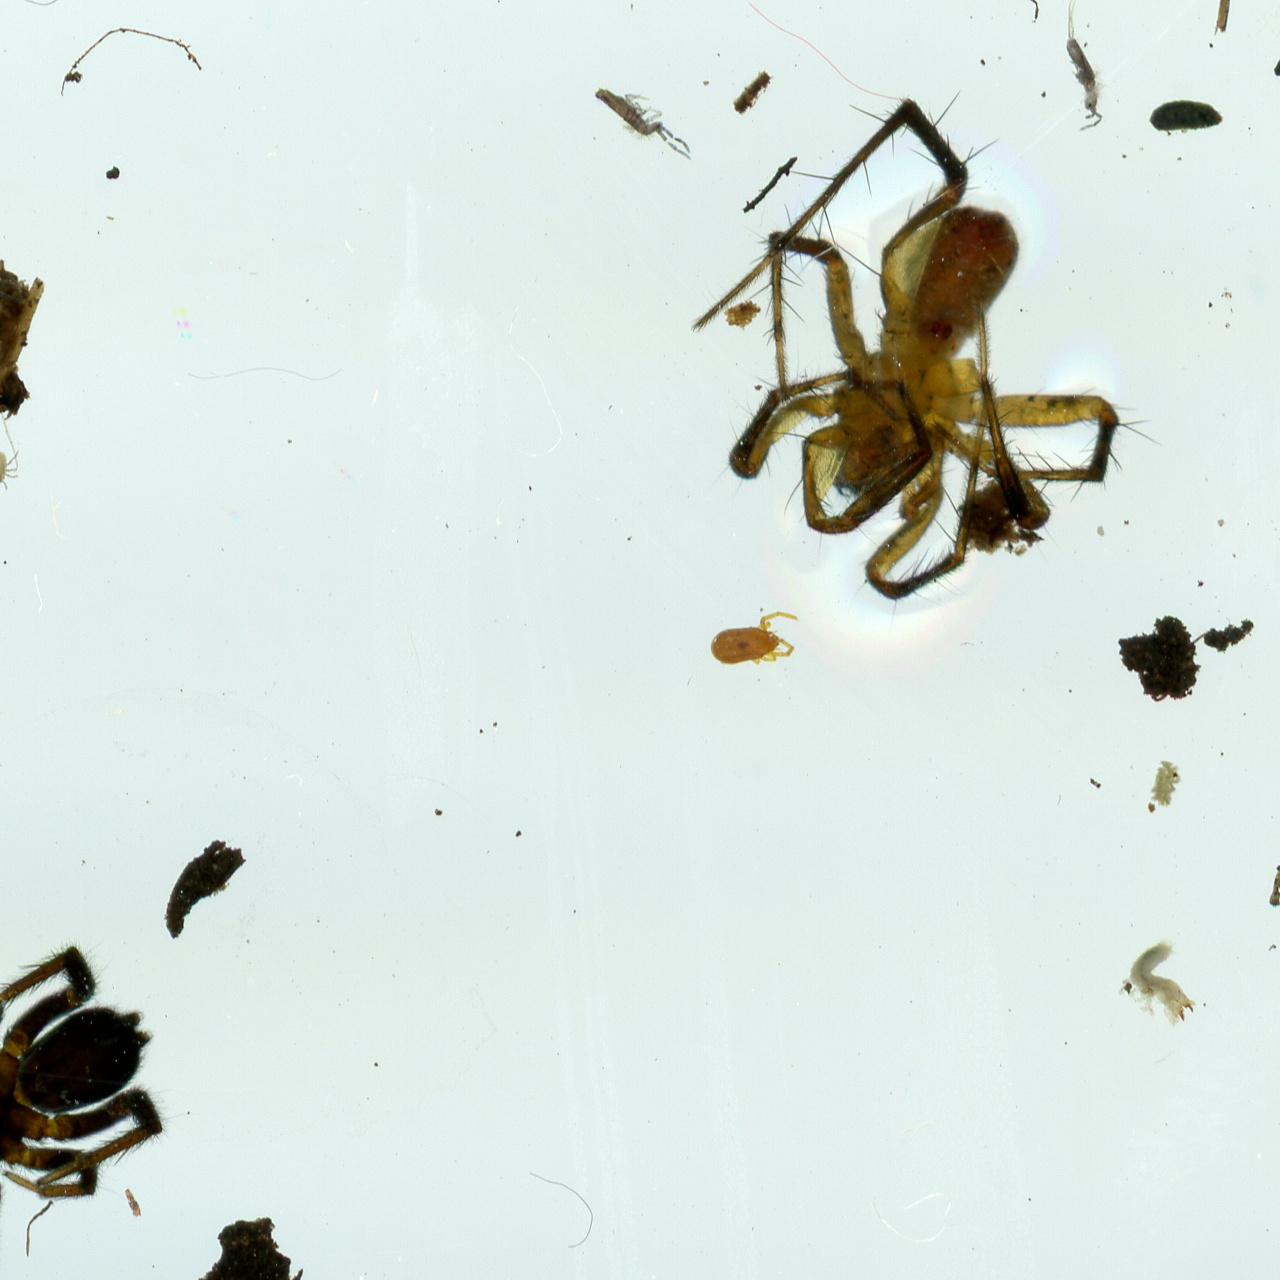arthropod: (680, 90, 1168, 633), (0, 844, 252, 1280), (554, 39, 721, 182), (1054, 0, 1112, 142), (700, 609, 798, 667), (0, 448, 22, 491)
